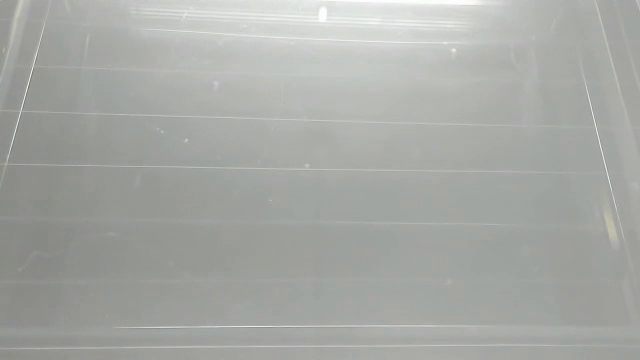alpha: (314, 3, 330, 29)
